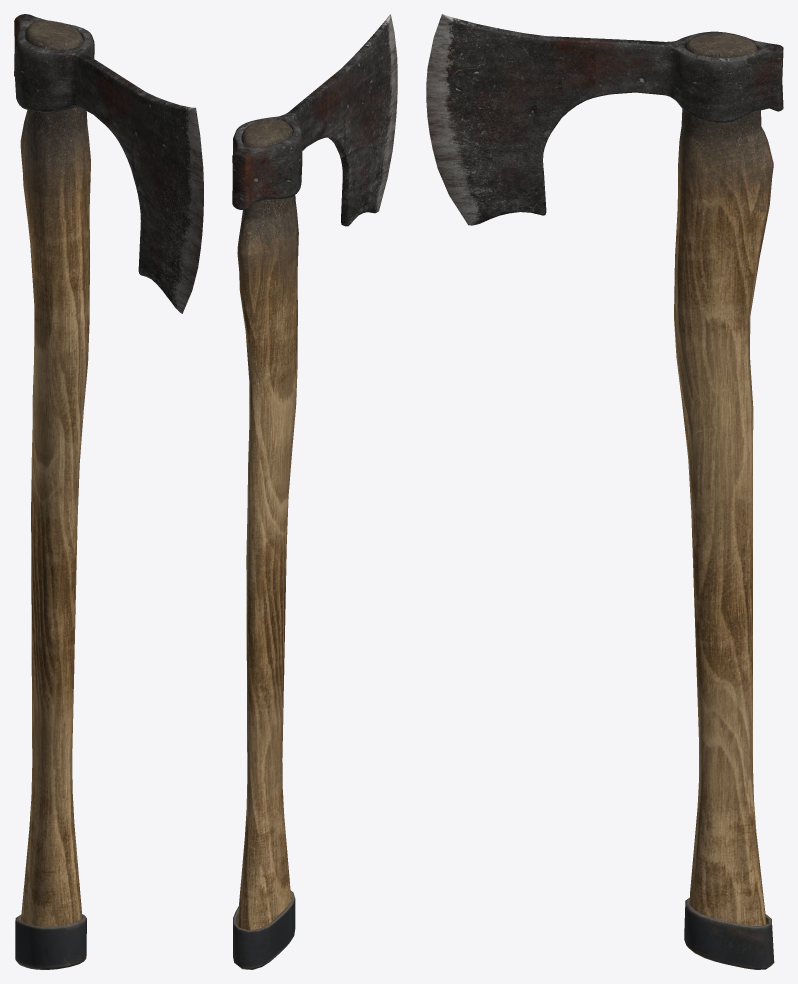
File: wooden_axe_1k_md.glb
3 views of the same model, side by side, from view 1: azimuth 30°, elevation 25°; view 2: azimuth 150°, elevation 25°; view 3: azimuth 270°, elevation 25° (orthographic). The views are drawn at different scales.
Visible parts, largest first — view 1: wooden_axe; view 2: wooden_axe; view 3: wooden_axe.
Part boxes in pixels (bbox=[...]): wooden_axe: bbox=[14, 14, 203, 969]; wooden_axe: bbox=[232, 14, 397, 969]; wooden_axe: bbox=[426, 14, 783, 969].
Bounding box in the file's own units: 0.0472 × 0.6303 × 0.2143.
Materials: 1 (1 with a texture image).
